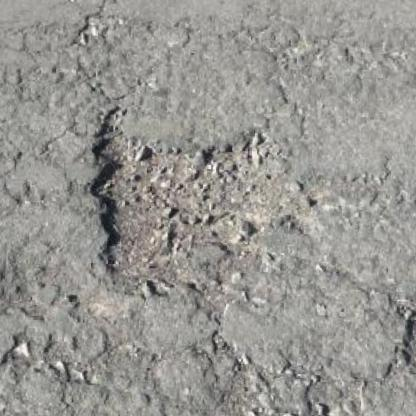pothole: (73, 101, 300, 305), (394, 294, 416, 411)
